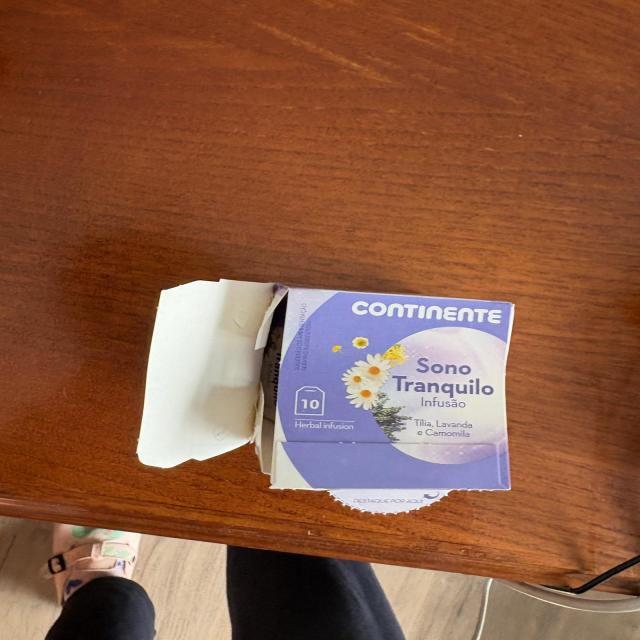damaged_package: (138, 280, 516, 514)
